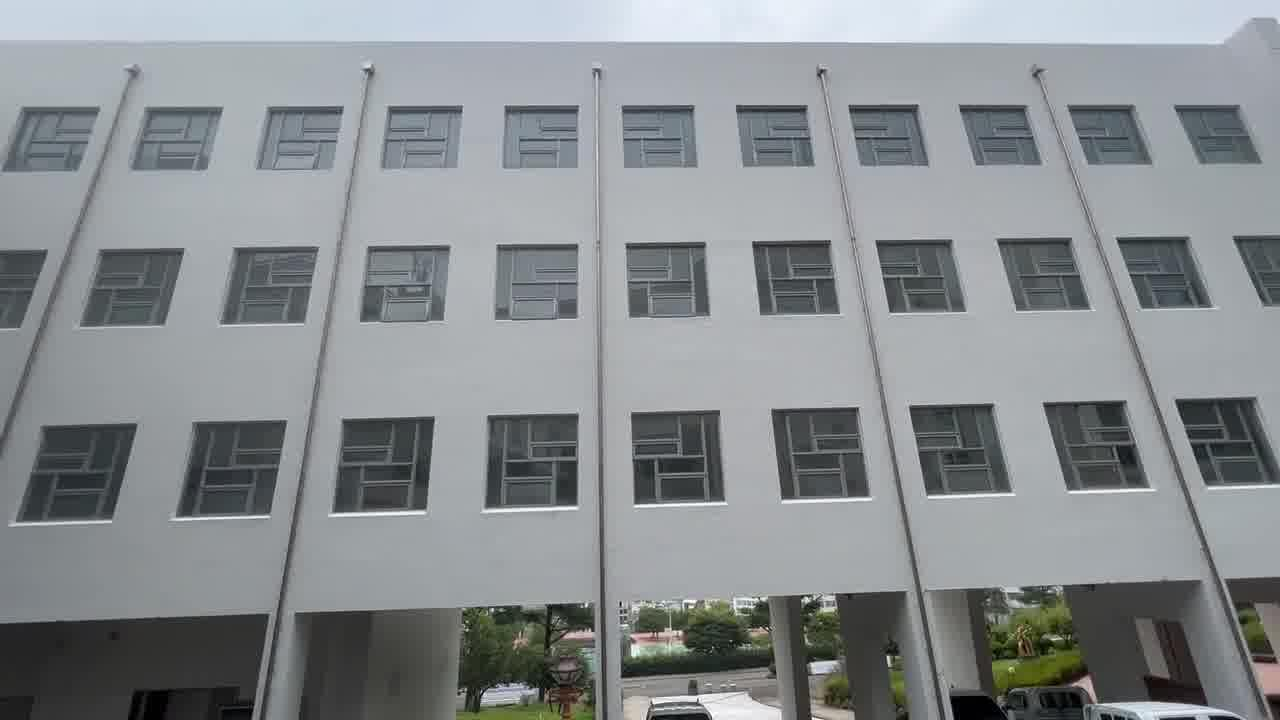building: (3, 21, 1254, 571)
